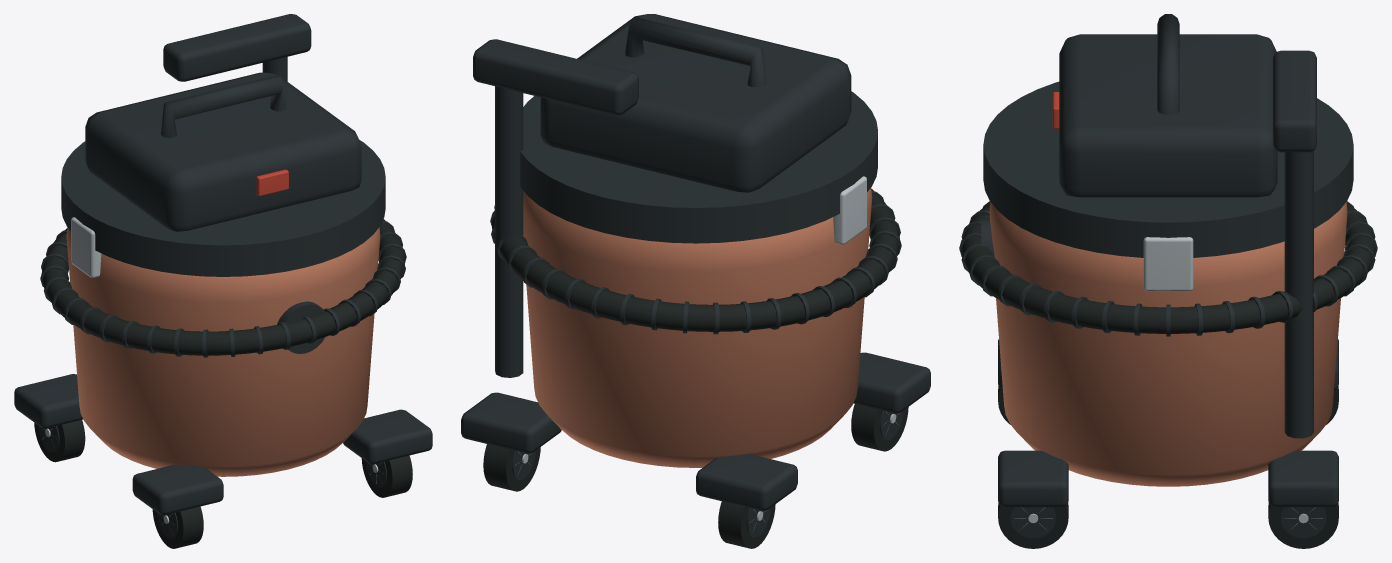
The model's file is shop-canister-vacuum.glb.
The picture shows the model from 3 angles, left to right: view 1: azimuth 30°, elevation 25°; view 2: azimuth 150°, elevation 25°; view 3: azimuth 270°, elevation 25°; orthographic projection. The views are drawn at different scales.
Parts seen in each view (by area): view 1: shop-canister-vacuum authored assembly; view 2: shop-canister-vacuum authored assembly; view 3: shop-canister-vacuum authored assembly.
Boxes of the visible parts, bbox=[...] form: shop-canister-vacuum authored assembly: bbox=[14, 14, 432, 548]; shop-canister-vacuum authored assembly: bbox=[461, 14, 930, 548]; shop-canister-vacuum authored assembly: bbox=[959, 14, 1377, 548].
Bounding box in the file's own units: 0.5 × 0.58 × 0.5.
